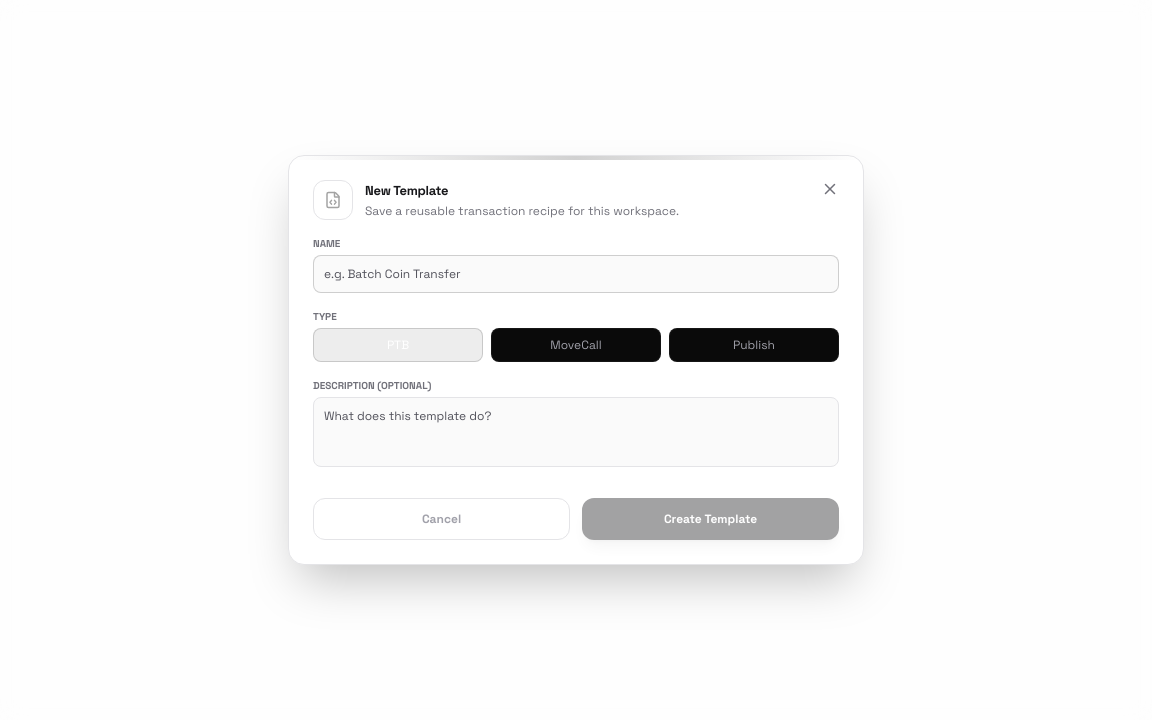
Scenario: NewTemplateModal › disables Create Template until a name is entered
Expected: the button "Create Template" is disabled, [582,498,839,540]
Type "Batch Transfer" into the field with placeholder "e.g. Batch Coin Transfer" at (576, 274), box [313,255,839,293]
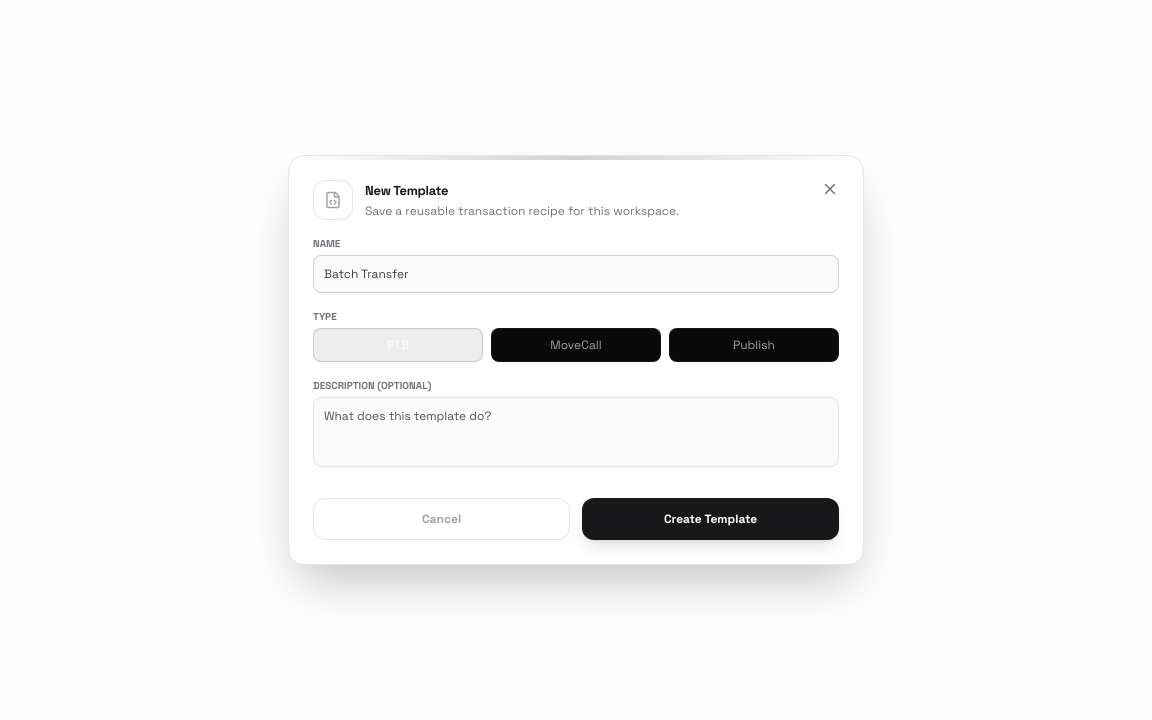
Now the button "Create Template" is enabled, box [582,498,839,540]
